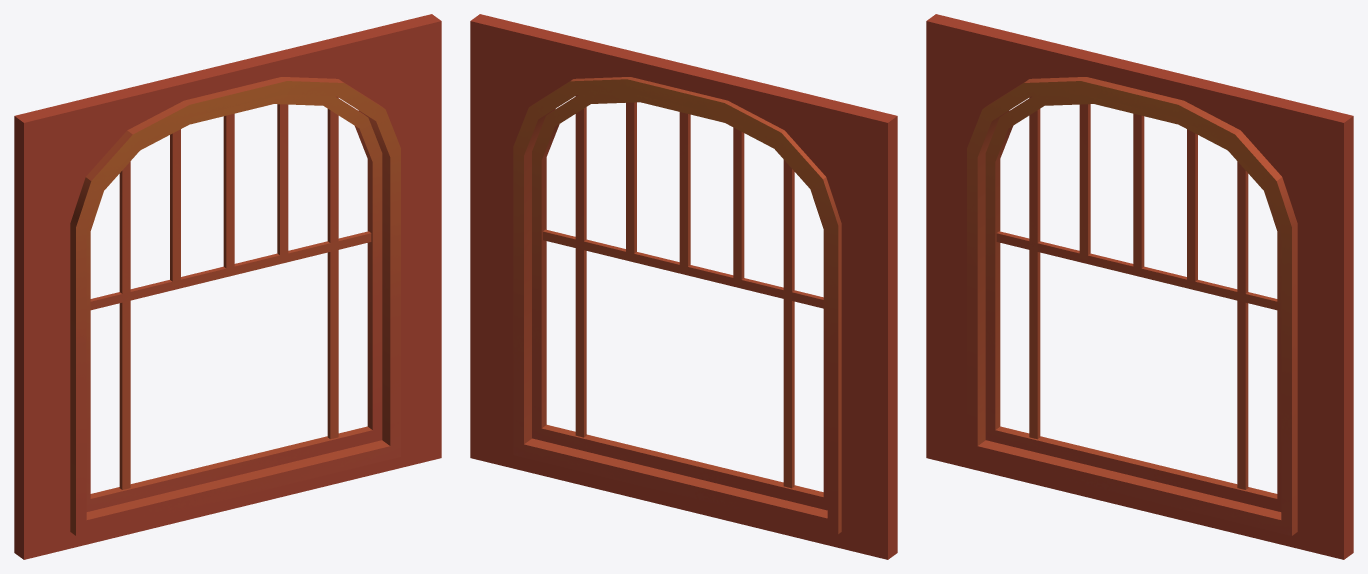
File: Desert_Window.fbx
The picture shows the model from 3 angles, left to right: view 1: azimuth 30°, elevation 25°; view 2: azimuth 150°, elevation 25°; view 3: azimuth 330°, elevation 25°; orthographic projection.
Parts seen in each view (by area): view 1: Wall_WindowCutout, WindowFrame, WindowSlats, WindowFrame_Inner; view 2: Wall_WindowCutout, WindowFrame, WindowSlats, WindowFrame_Inner; view 3: Wall_WindowCutout, WindowFrame, WindowSlats, WindowFrame_Inner.
Boxes of the visible parts, x1,y1,x2,y2 form: Wall_WindowCutout: (14, 14, 441, 559); WindowFrame: (70, 77, 400, 535); WindowSlats: (90, 96, 371, 489); WindowFrame_Inner: (86, 94, 382, 511); Wall_WindowCutout: (470, 14, 897, 559); WindowFrame: (513, 77, 841, 534); WindowSlats: (543, 95, 823, 488); WindowFrame_Inner: (532, 93, 827, 510); Wall_WindowCutout: (926, 14, 1353, 559); WindowFrame: (967, 77, 1297, 535); WindowSlats: (996, 96, 1277, 489); WindowFrame_Inner: (985, 94, 1281, 511).
Size of the model in its own units: 5.41 by 5.41 by 0.4176.
